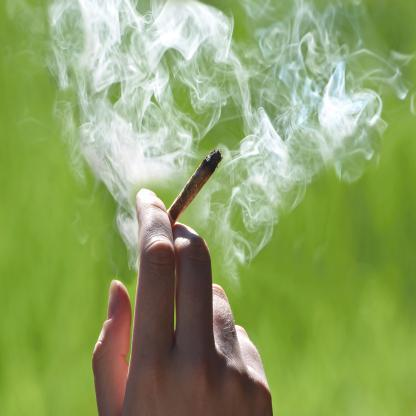cigarette: (165, 148, 225, 226)
smoke: (51, 0, 230, 101), (246, 57, 368, 189), (76, 112, 190, 205)
